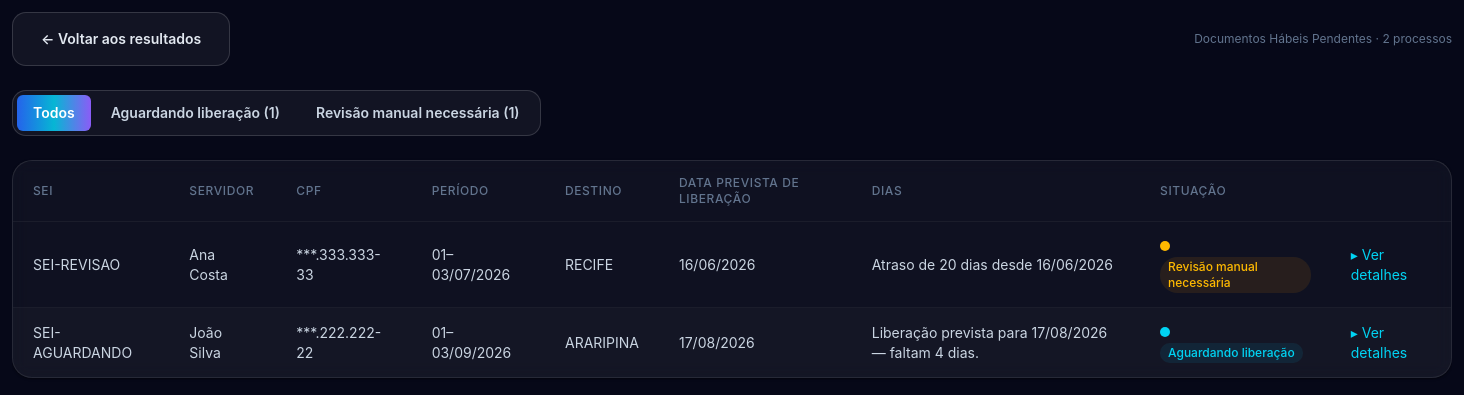
Test: PainelDocumentosHabeisPendentes › com resultado carregado › filtros internos › filtrar por 'Revisão manual necessária' esconde a linha de aguardando
Click the radio button labelled "Revisão manual necessária (1)" at (418, 113), box left=300, top=95, right=536, bottom=131
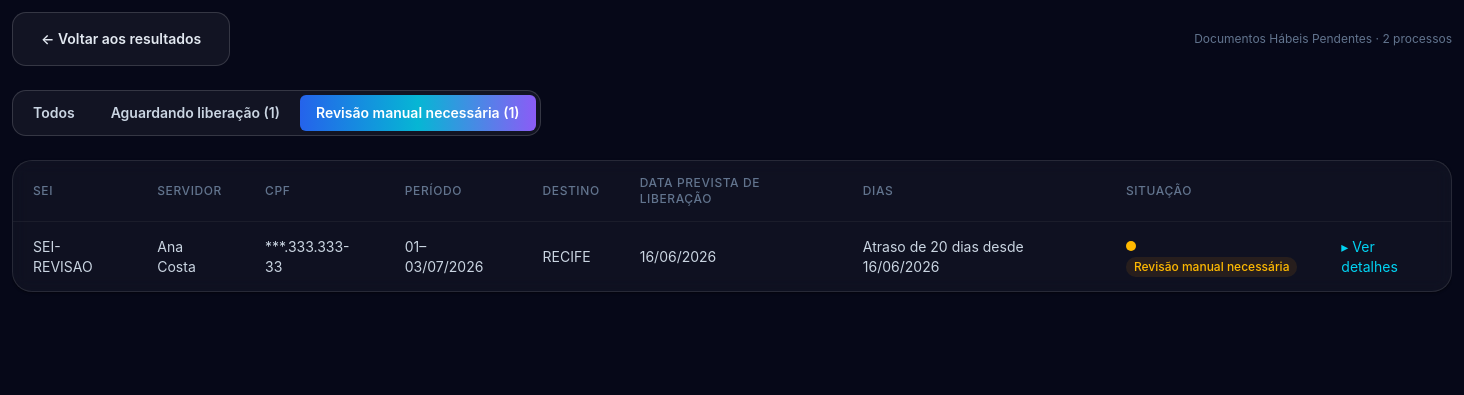
Expected: the text "SEI-REVISAO" is shown, left=13, top=222, right=137, bottom=291
Now the text "SEI-AGUARDANDO" is gone
